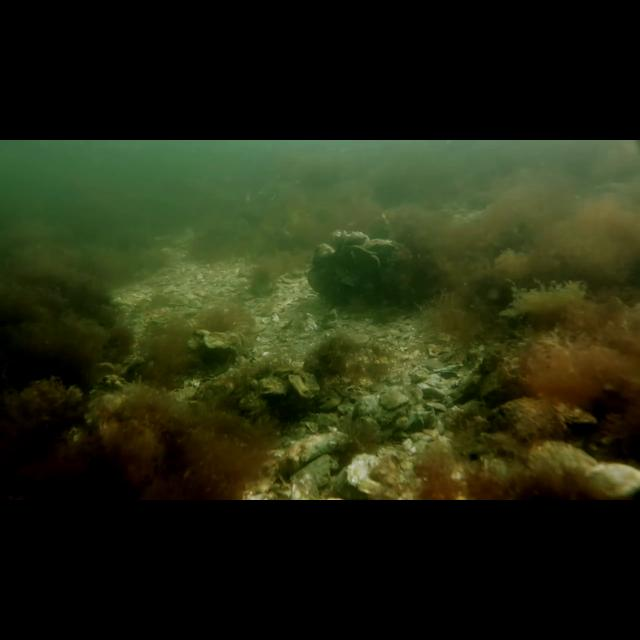Oyster-Closed: (339, 244, 380, 272), (363, 236, 400, 254), (343, 233, 369, 244), (337, 277, 356, 288)
